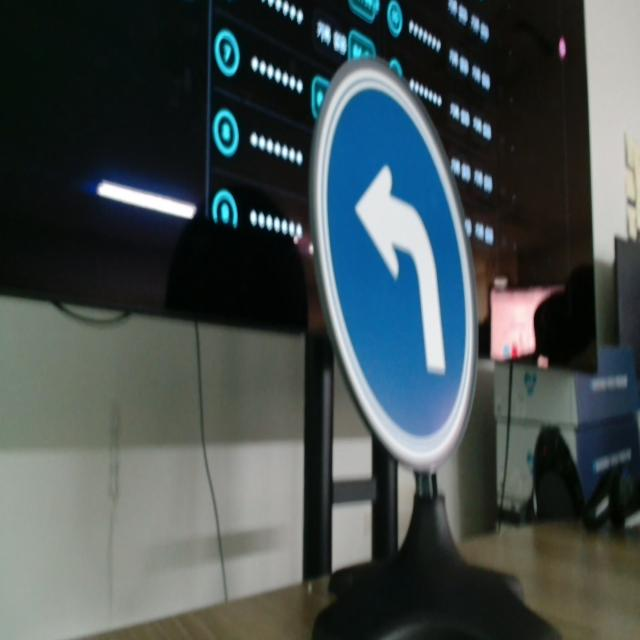left_direction: (311, 56, 483, 480)
